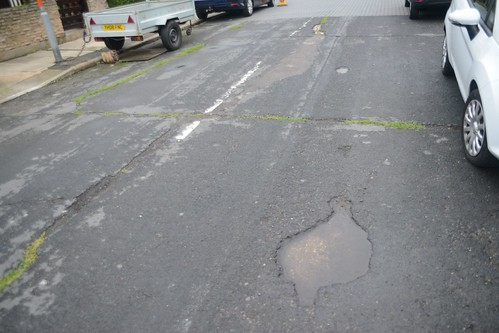street: (2, 1, 499, 333)
